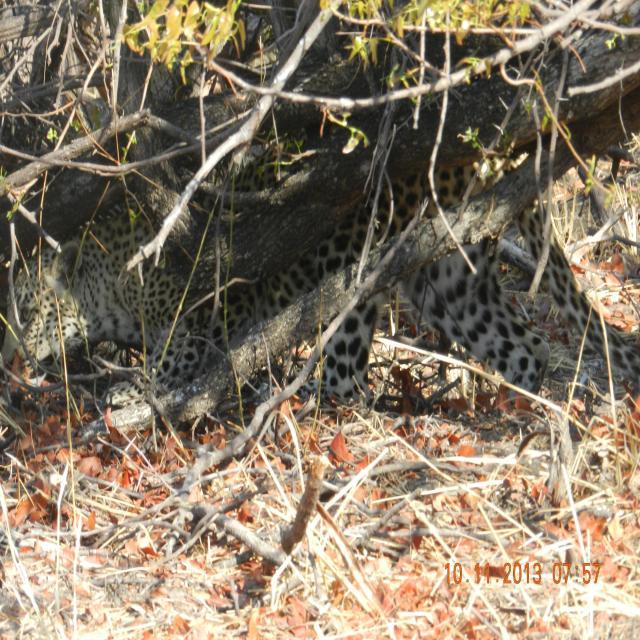Leopard: (0, 111, 640, 416)
